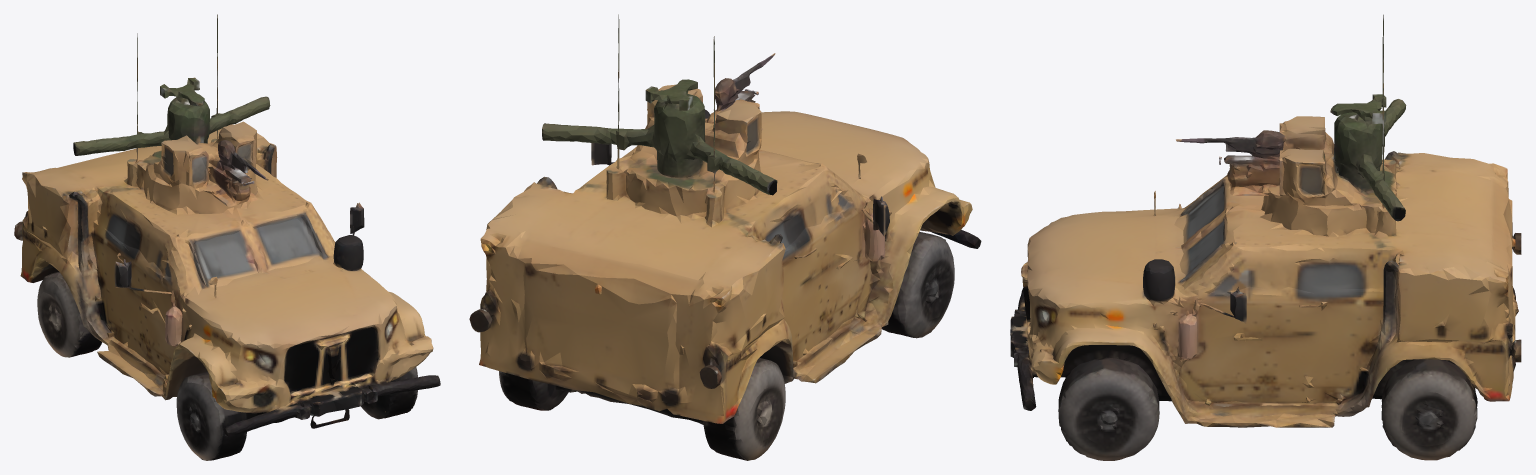
The model's file is Oshkosh_JLTV_AI_Rodin.glb.
The picture shows the model from 3 angles, left to right: view 1: azimuth 30°, elevation 25°; view 2: azimuth 150°, elevation 25°; view 3: azimuth 270°, elevation 25°; orthographic projection. The views are drawn at different scales.
Visible parts, largest first — view 1: model; view 2: model; view 3: model.
Boxes of the visible parts, x1,y1,x2,y2 form: model: [14, 14, 440, 460]; model: [469, 14, 981, 460]; model: [1010, 14, 1521, 460].
Bounding box in the file's own units: 1.2 × 1.51 × 1.89.
1 material, 1 textured.
